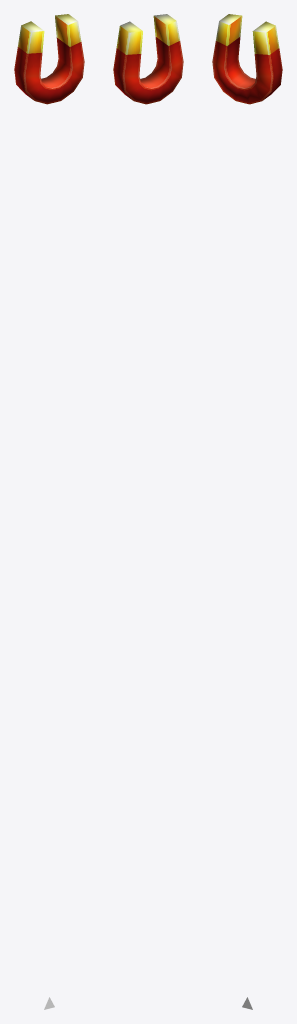
Rendered from CoinMagnetIcon.glb.
The picture shows the model from 3 angles, left to right: view 1: azimuth 30°, elevation 25°; view 2: azimuth 210°, elevation 25°; view 3: azimuth 330°, elevation 25°; orthographic projection.
Parts seen in each view (by area): view 1: MagnetBooster; view 2: MagnetBooster; view 3: MagnetBooster.
Part boxes in pixels (x1,y1,x2,y2): MagnetBooster: [14, 14, 84, 1009]; MagnetBooster: [113, 14, 183, 104]; MagnetBooster: [212, 14, 282, 1009].
Size of what is drawn, in the model's own units: 9.41 by 146 by 3.57.
Materials: 2 (1 with a texture image).
